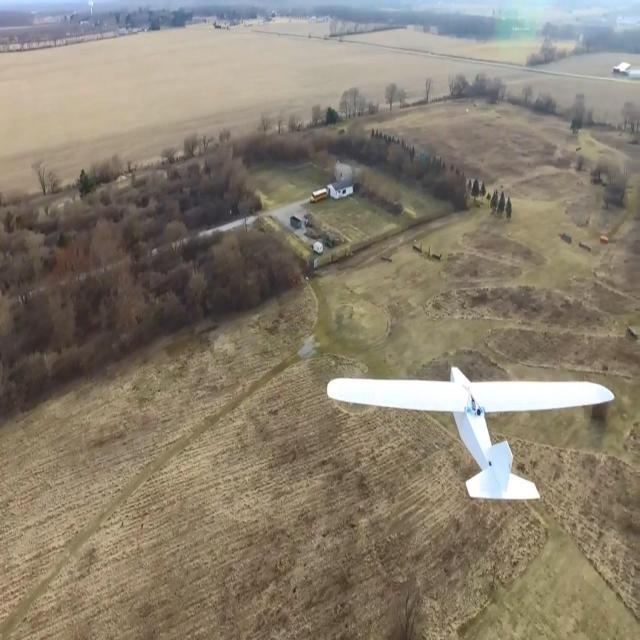iha: (314, 335, 618, 527)
